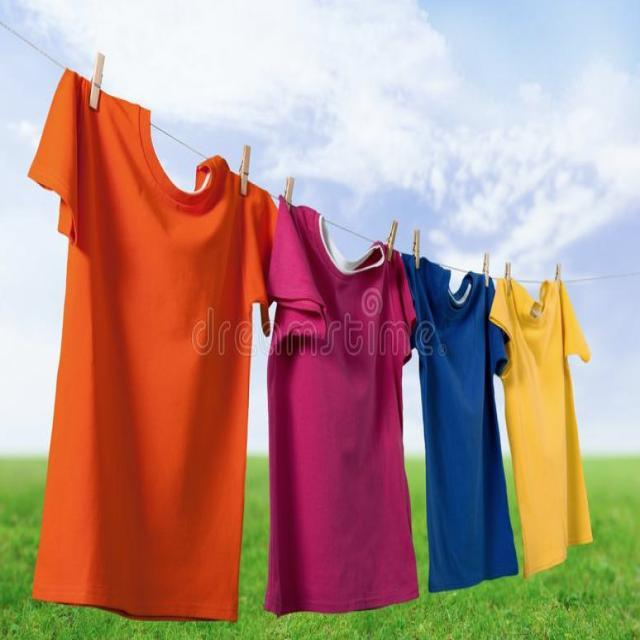clothes: (33, 39, 258, 630), (250, 173, 420, 616), (393, 229, 519, 591), (491, 258, 599, 570)
